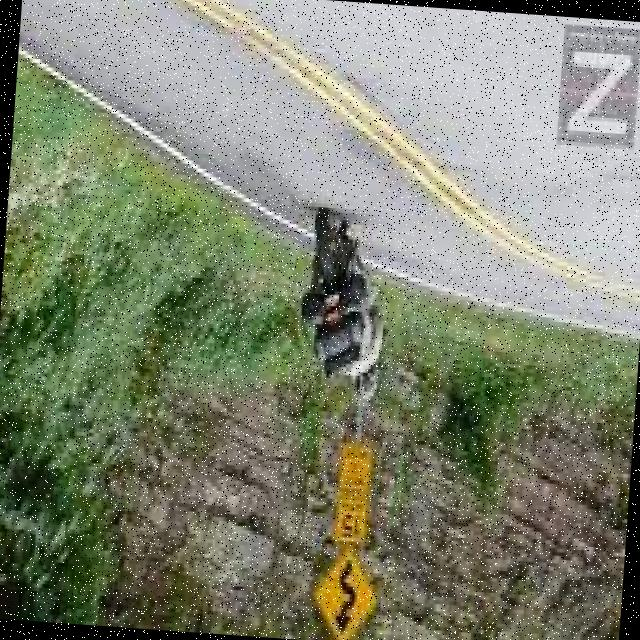left_sharp_curve: (303, 545, 394, 640)
